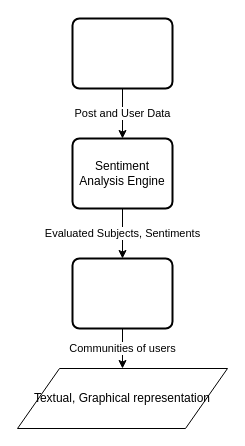
Image size: 245x446. Some labels were removed from this diagram. Each missing label, with the centre of its shape:
Community Detection: [122,293]
Web Scraping Tool: [122,53]
